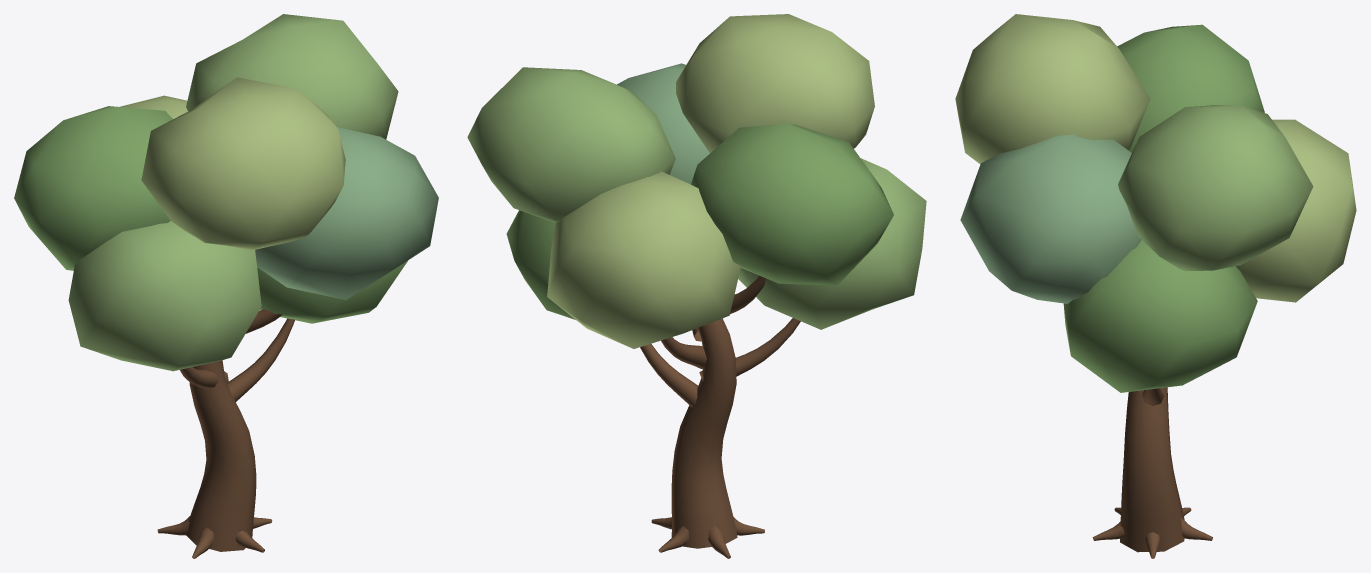
File: tree-0.glb
The picture shows the model from 3 angles, left to right: view 1: azimuth 30°, elevation 25°; view 2: azimuth 150°, elevation 25°; view 3: azimuth 270°, elevation 25°; orthographic projection. The views are drawn at different scales.
Visible parts, largest first — view 1: tree-0-artist-mesh; view 2: tree-0-artist-mesh; view 3: tree-0-artist-mesh.
Boxes of the visible parts, x1,y1,x2,y2 form: tree-0-artist-mesh: [14, 14, 438, 558]; tree-0-artist-mesh: [467, 14, 926, 558]; tree-0-artist-mesh: [955, 14, 1356, 558].
Size of the model in its own units: 3.24 by 3.98 by 2.89.
